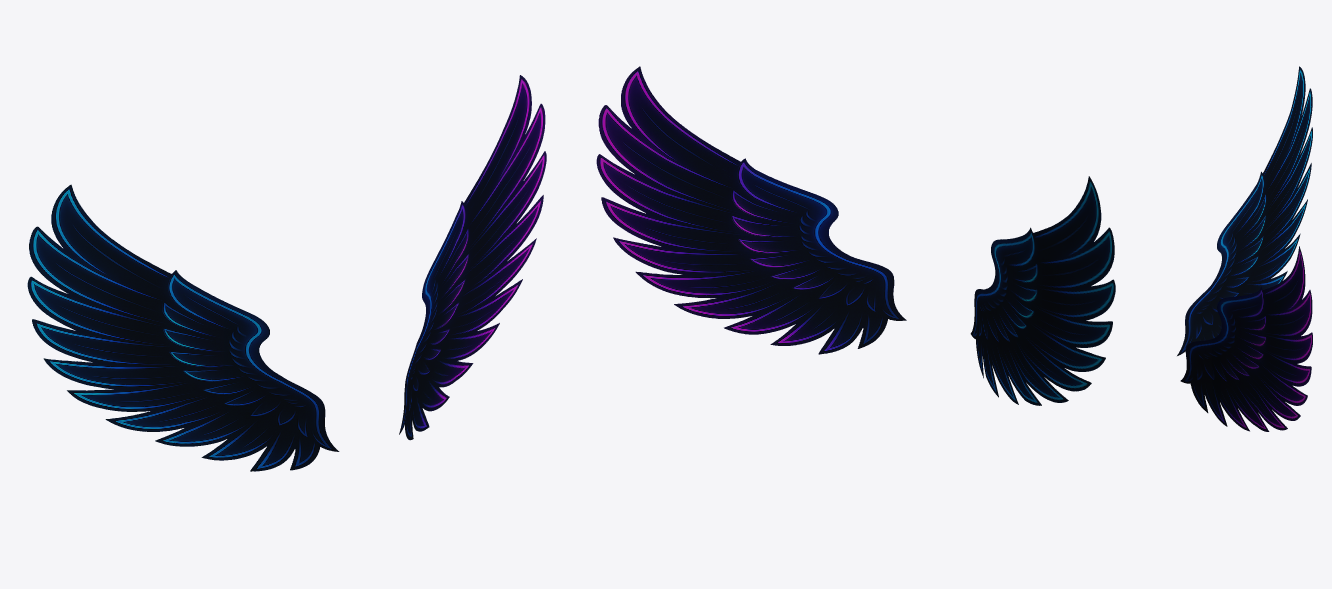
File: canh7.fbx
3 renders of one model, left to right at view 1: azimuth 30°, elevation 25°; view 2: azimuth 150°, elevation 25°; view 3: azimuth 270°, elevation 25°, orthographic. The views are drawn at different scales.
Parts seen in each view (by area): view 1: canh7; view 2: canh7; view 3: canh7.
Part boxes in pixels (left/top/right/bottom): canh7: left=27, top=75, right=546, bottom=471; canh7: left=596, top=66, right=1115, bottom=405; canh7: left=1177, top=66, right=1312, bottom=431.
Size of the model in its own units: 1.81 by 1.34 by 0.5832.
